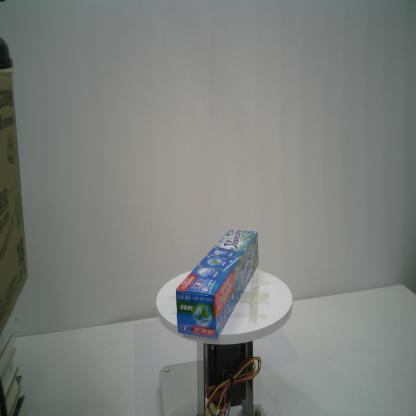Personal Hygiene: (174, 229, 260, 340)
